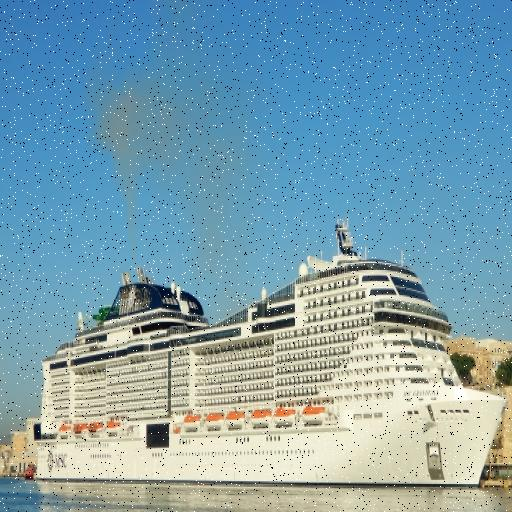cruises: (29, 215, 512, 496)
